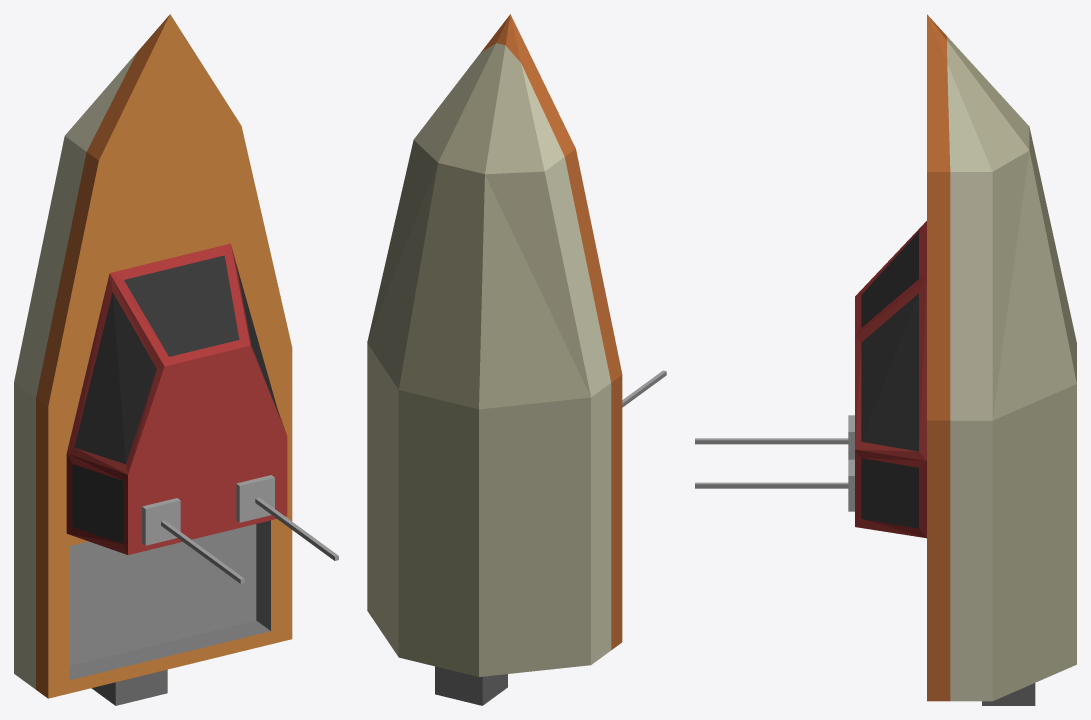
File: boatAnimated_01.fbx
3 views of the same model, side by side, from view 1: azimuth 30°, elevation 25°; view 2: azimuth 150°, elevation 25°; view 3: azimuth 270°, elevation 25° (orthographic). The views are drawn at different scales.
Parts seen in each view (by area): view 1: Vehicle_Boat_01; view 2: Vehicle_Boat_01; view 3: Vehicle_Boat_01.
Part boxes in pixels (x1=…): Vehicle_Boat_01: x1=14, y1=14, x2=338, y2=705; Vehicle_Boat_01: x1=367, y1=14, x2=666, y2=705; Vehicle_Boat_01: x1=695, y1=14, x2=1076, y2=705.
Size of the model in its own units: 250 by 692 by 352.
